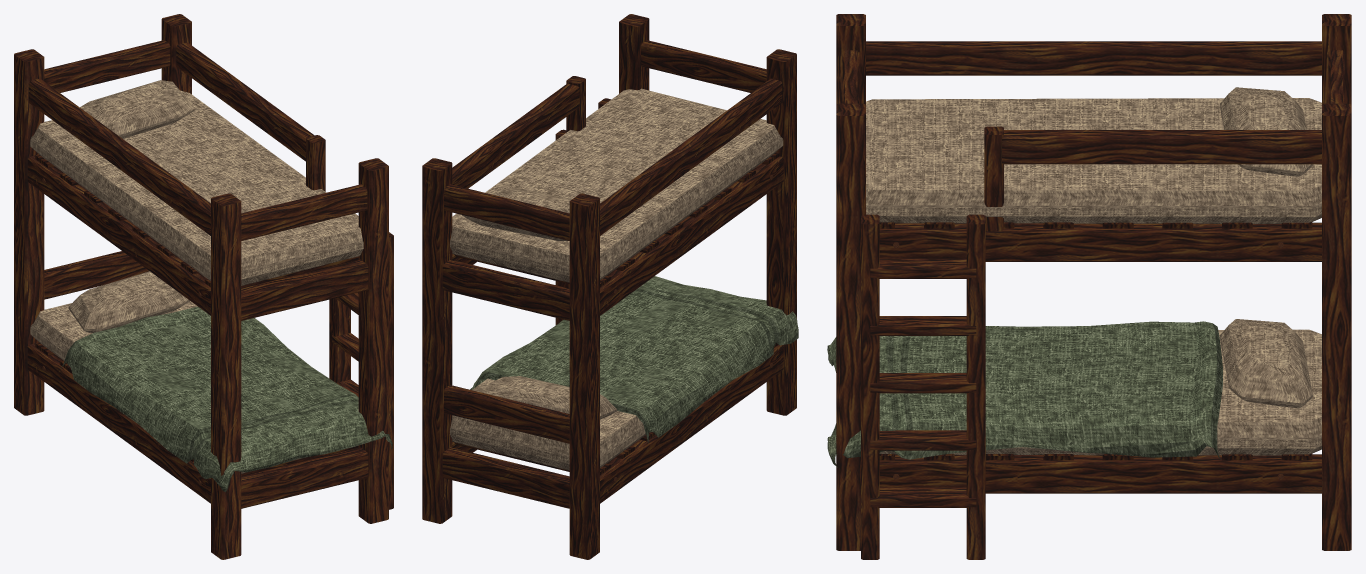
The model's file is Beliche-Manta-Verde.glb.
The picture shows the model from 3 angles, left to right: view 1: azimuth 30°, elevation 25°; view 2: azimuth 150°, elevation 25°; view 3: azimuth 270°, elevation 25°; orthographic projection. The views are drawn at different scales.
Parts seen in each view (by area): view 1: Pés e montantes, Manta inferior, Colchao superior, Proteções laterais, Proteções das pontas, Travessas laterais superior, Travessas laterais inferior, Travesseiro 1 inferior, Travessas das pontas inferior, Travessas das pontas superior, Travesseiro 1 superior, Escada (+5 smaller); view 2: Pés e montantes, Colchao superior, Manta inferior, Proteções laterais, Proteções das pontas, Travessas laterais superior, Travessas laterais inferior, Colchao inferior, Travessas das pontas inferior, Travessas das pontas superior, Cabeceira inferior, Travesseiro 1 inferior (+3 smaller); view 3: Colchao superior, Manta inferior, Proteções laterais, Pés e montantes, Travessas laterais superior, Travessas laterais inferior, Escada, Degraus, Colchao inferior, Travesseiro 1 inferior, Travesseiro 1 superior, Proteções das pontas (+2 smaller).
Part boxes in pixels (x1,y1,x2,y2): Pés e montantes: [14, 14, 388, 559]; Manta inferior: [61, 306, 392, 491]; Colchao superior: [30, 90, 363, 285]; Proteções laterais: [28, 42, 325, 235]; Proteções das pontas: [44, 40, 367, 240]; Travessas laterais superior: [27, 154, 210, 315]; Travessas laterais inferior: [27, 342, 210, 503]; Travesseiro 1 inferior: [68, 271, 189, 332]; Travessas das pontas inferior: [241, 447, 368, 508]; Travessas das pontas superior: [241, 259, 368, 320]; Travesseiro 1 superior: [80, 80, 194, 138]; Escada: [329, 232, 393, 509]; Pés e montantes: [422, 14, 796, 559]; Colchao superior: [450, 88, 783, 282]; Manta inferior: [470, 276, 798, 443]; Proteções laterais: [452, 76, 782, 235]; Proteções das pontas: [444, 40, 766, 240]; Travessas laterais superior: [452, 156, 783, 315]; Travessas laterais inferior: [452, 345, 783, 503]; Colchao inferior: [450, 378, 645, 470]; Travessas das pontas inferior: [442, 447, 569, 508]; Travessas das pontas superior: [442, 259, 569, 320]; Cabeceira inferior: [444, 385, 569, 443]; Travesseiro 1 inferior: [473, 376, 617, 419]; Colchao superior: [866, 98, 1321, 223]; Manta inferior: [827, 321, 1222, 467]; Proteções laterais: [866, 41, 1321, 231]; Pés e montantes: [836, 14, 1351, 550]; Travessas laterais superior: [879, 222, 1321, 261]; Travessas laterais inferior: [879, 454, 1321, 493]; Escada: [861, 214, 985, 559]; Degraus: [870, 258, 976, 507]; Colchao inferior: [879, 329, 1321, 455]; Travesseiro 1 inferior: [1219, 319, 1312, 408]; Travesseiro 1 superior: [1220, 87, 1312, 176]; Proteções das pontas: [842, 50, 1345, 103].
Bounding box in the file's own units: 1.06 × 1.86 × 2.03.
3 materials, 3 textured.
